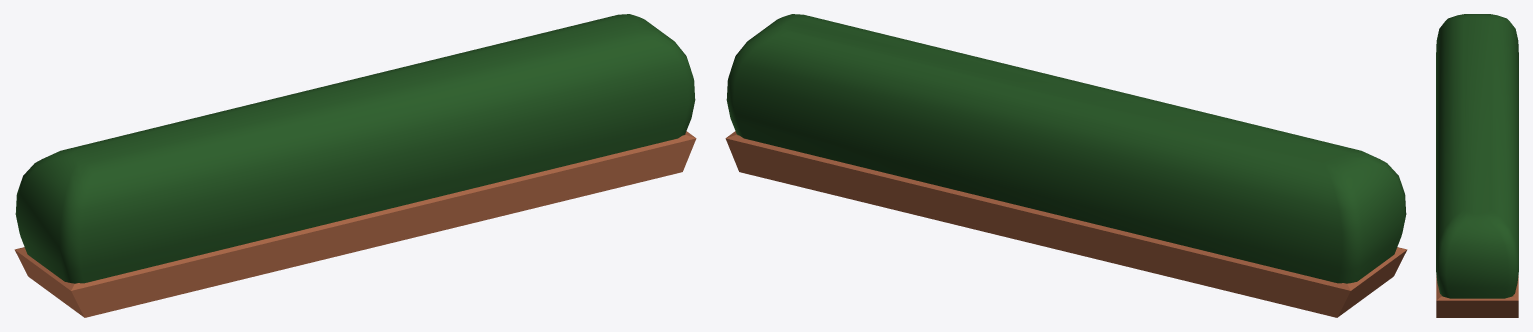
File: object_B1_Plants.glb
3 views of the same model, side by side, from view 1: azimuth 30°, elevation 25°; view 2: azimuth 150°, elevation 25°; view 3: azimuth 270°, elevation 25° (orthographic). The views are drawn at different scales.
Visible parts, largest first — view 1: B1 Plants; view 2: B1 Plants; view 3: B1 Plants.
Part boxes in pixels (<box>): B1 Plants: <box>14,14,696,317</box>; B1 Plants: <box>725,14,1407,317</box>; B1 Plants: <box>1436,14,1518,317</box>.
Size of the model in its own units: 1.29 by 0.2603 by 0.2018.
